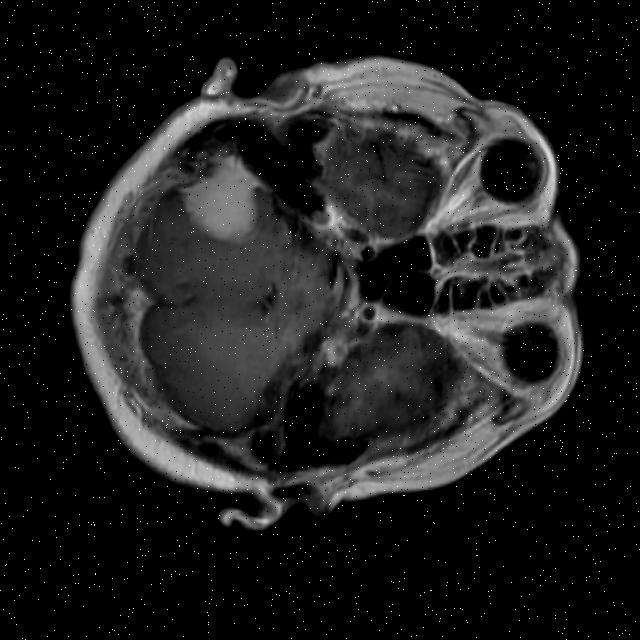Meningioma: (168, 150, 273, 248)
